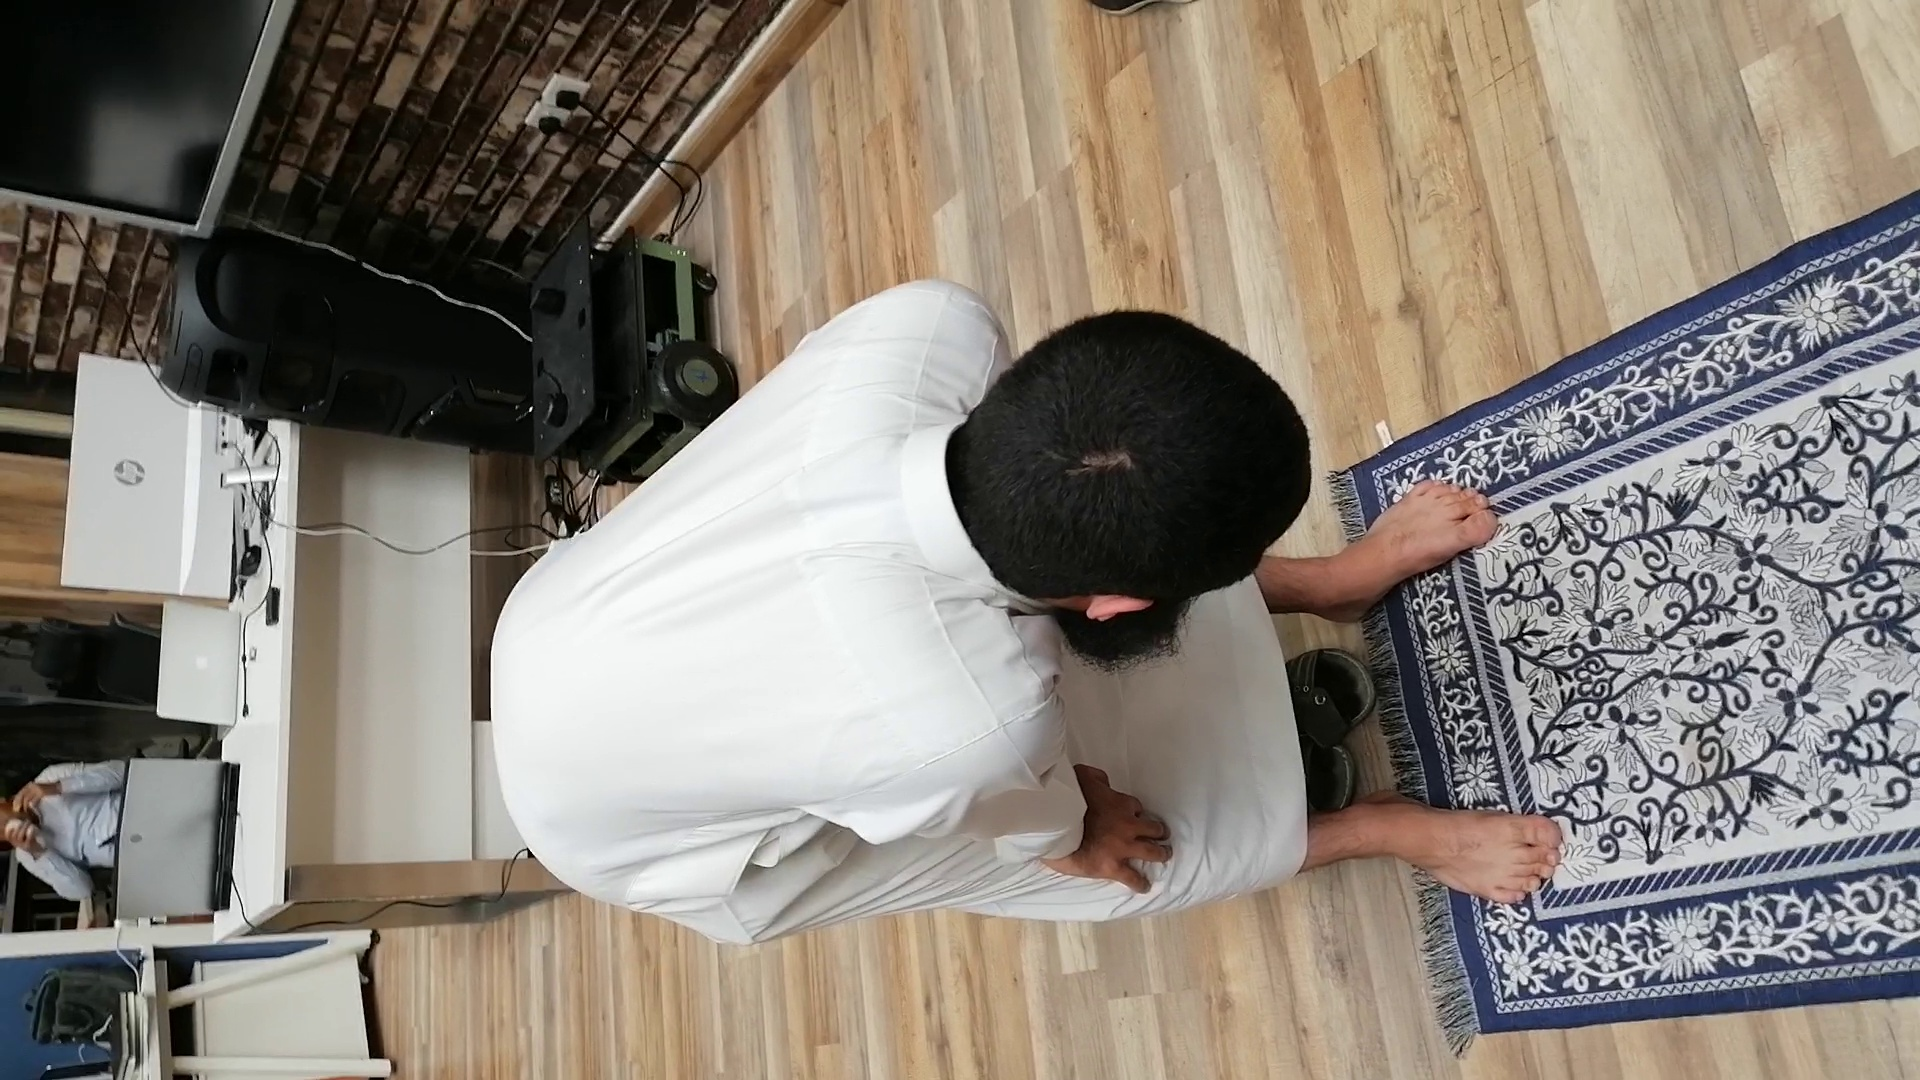ruku: (196, 222, 1691, 971)
